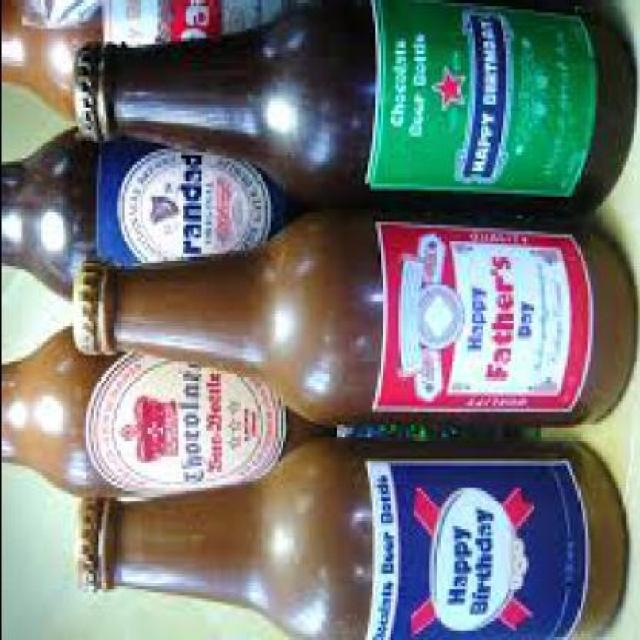GLASS: (105, 3, 632, 212), (105, 224, 632, 430), (102, 452, 626, 638), (1, 332, 528, 505), (1, 126, 334, 309), (2, 2, 310, 126)
METAL: (68, 260, 105, 362), (68, 45, 102, 146), (68, 501, 102, 599)
